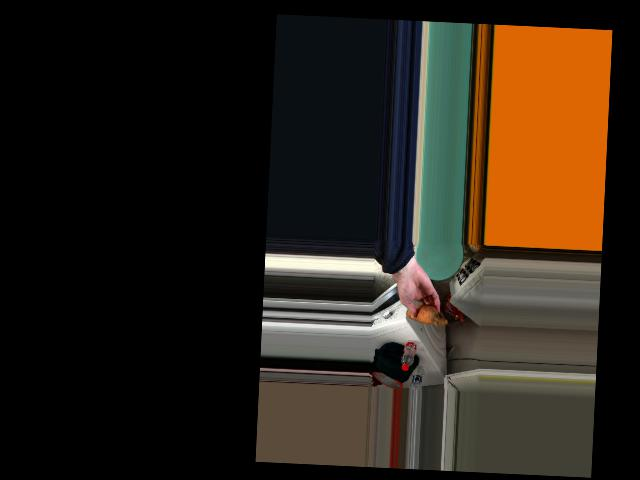sweet_potato: (408, 306, 440, 325)
